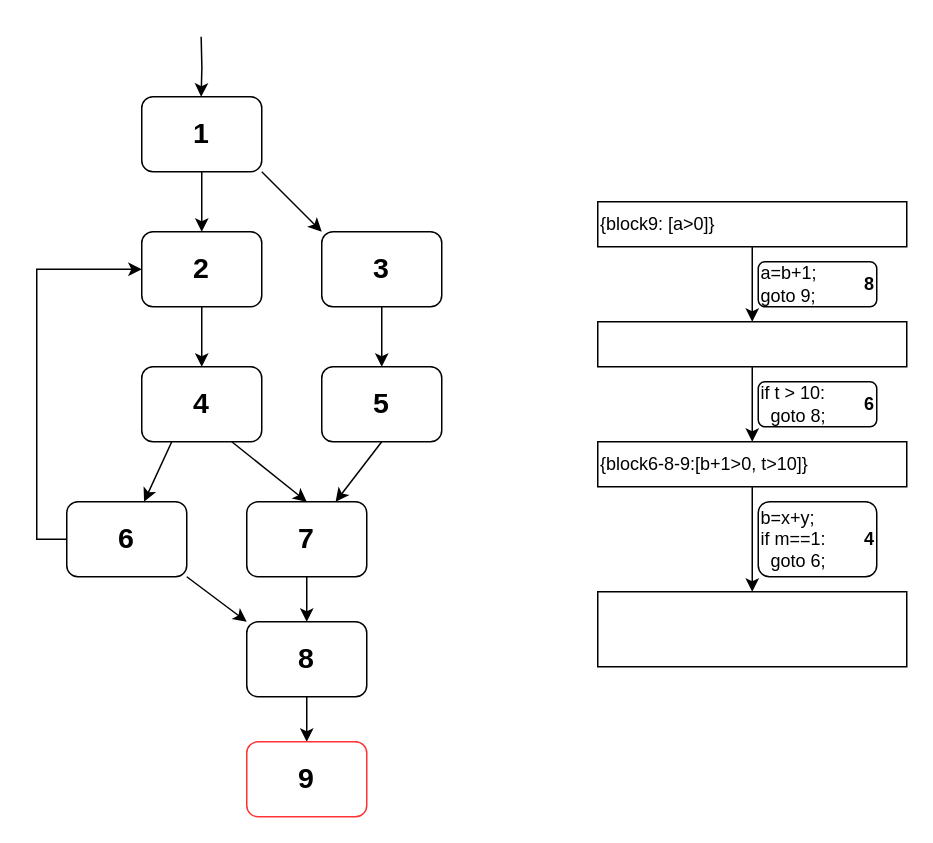
This 933x843 diagram has some shape labels left out. Here are the shapes that lost their labels. From the top down, the centre of each, then its label:
At [751,343]: "{ block8-9: [b+1>0]}".
At [751,628]: "{ block4-6-8-9: [x+y+1>0, t>10, m==1], block4-7-8-9:[...]}".
